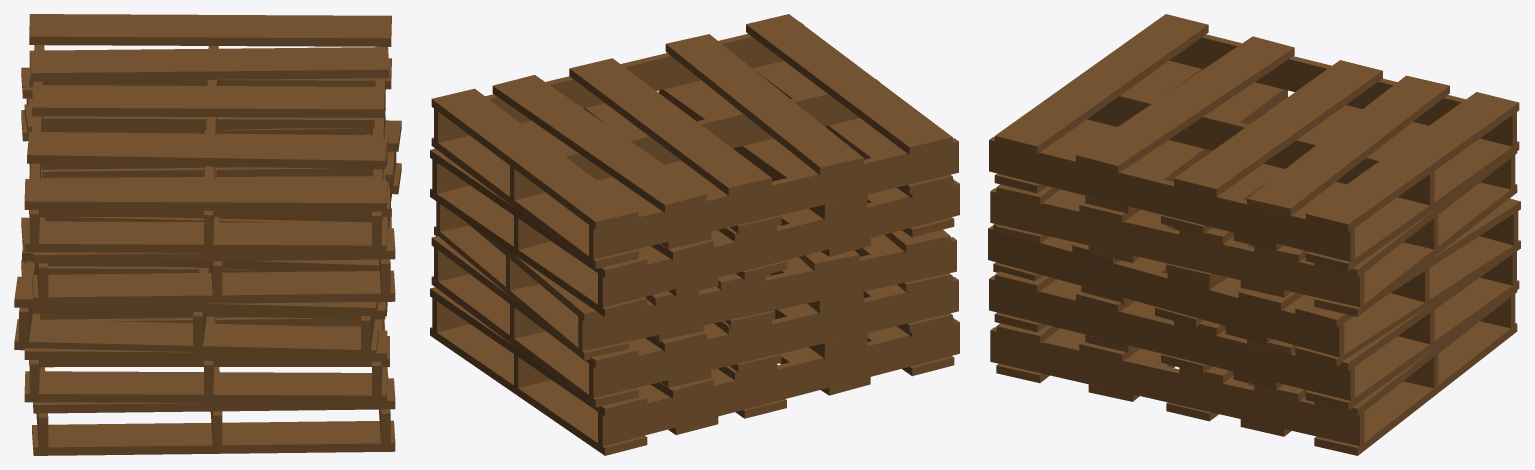
The model's file is Wooden_Boxes__008.fbx.
The picture shows the model from 3 angles, left to right: view 1: azimuth 30°, elevation 25°; view 2: azimuth 150°, elevation 25°; view 3: azimuth 270°, elevation 25°; orthographic projection. The views are drawn at different scales.
Visible parts, largest first — view 1: Wooden box-8; view 2: Wooden box-8; view 3: Wooden box-8.
Part boxes in pixels (box(x1,y1,x2,y2)): Wooden box-8: box(14, 14, 401, 455); Wooden box-8: box(430, 14, 959, 455); Wooden box-8: box(988, 14, 1520, 455).
Bounding box in the file's own units: 1.97 × 0.9981 × 2.07.
